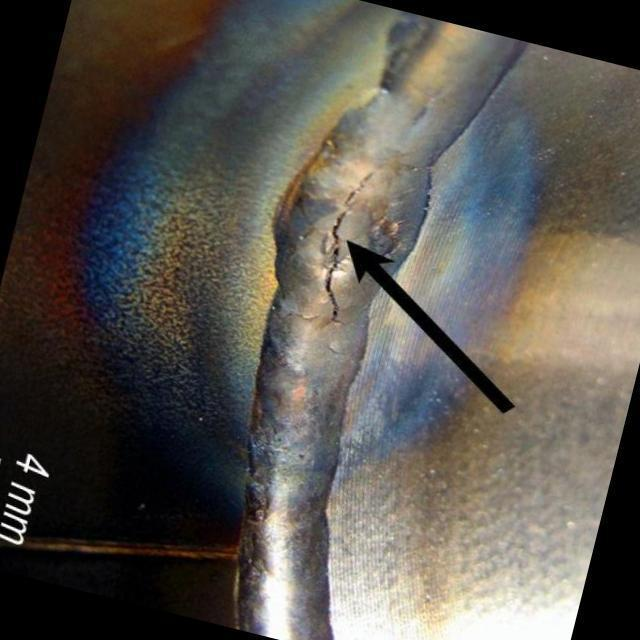defect: (314, 169, 376, 332)
